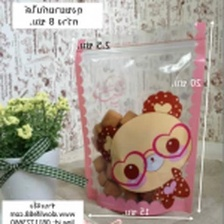snack: (68, 14, 213, 223)
